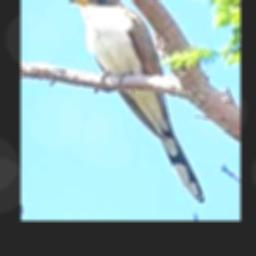Cuckoo: (70, 0, 205, 203)
